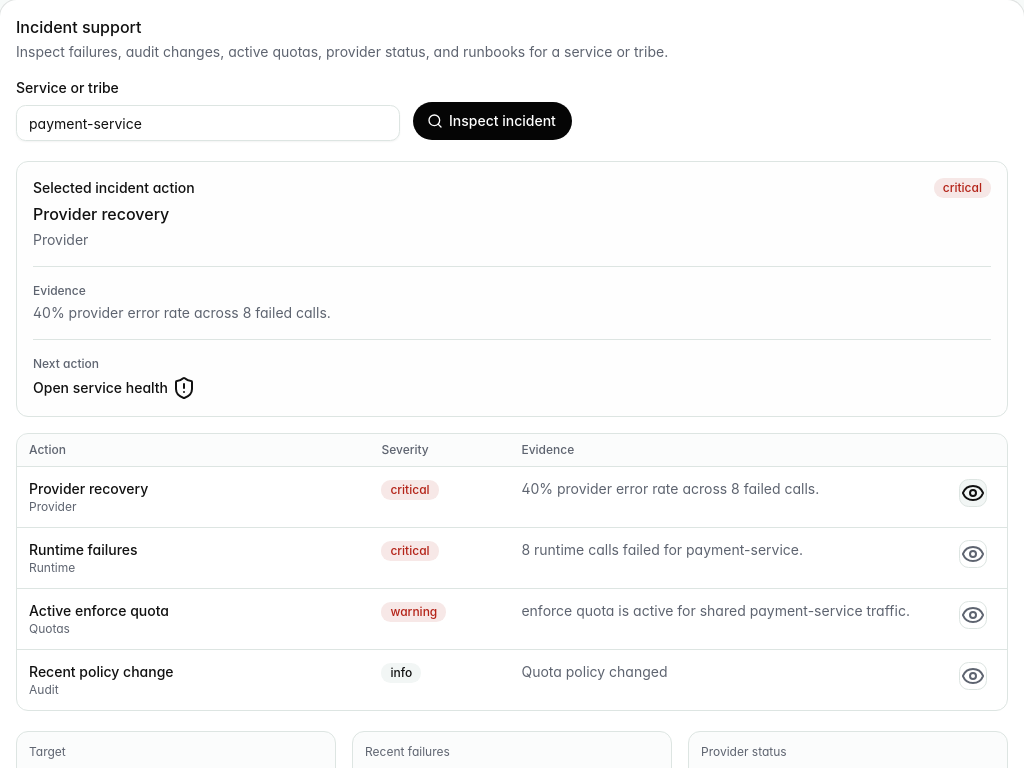
Test: IncidentSupportPanel › prioritizes incident actions with one selected action detail
expect the element named "Selected incident action detail" shows "Provider recovery": met, box [33,204,169,224]
expect the element named "Selected incident action detail" shows "40% provider error rate across 8 failed calls.": met, box [33,304,331,321]
Click the button named "inspect incident action active enforce quota" at (973,615), box [959,601,987,629]
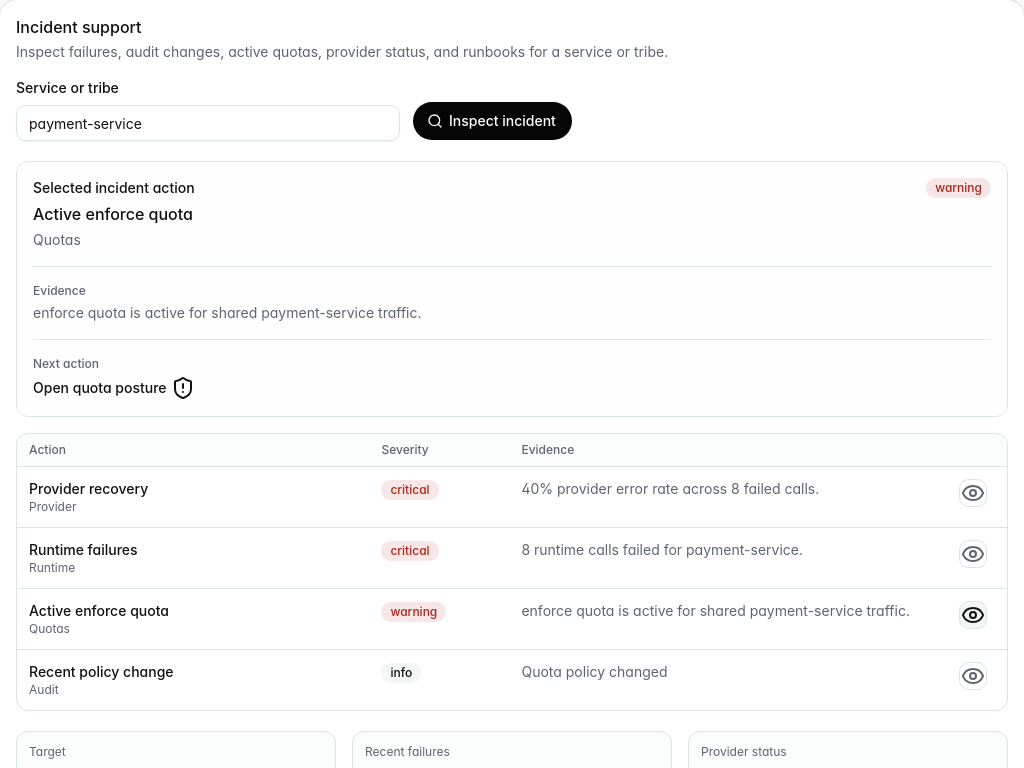
expect the element named "Selected incident action detail" shows "Active enforce quota": met, box [33,204,193,224]
expect the element named "Selected incident action detail" shows "enforce quota is active for shared payment-service traffic.": met, box [33,304,422,321]
